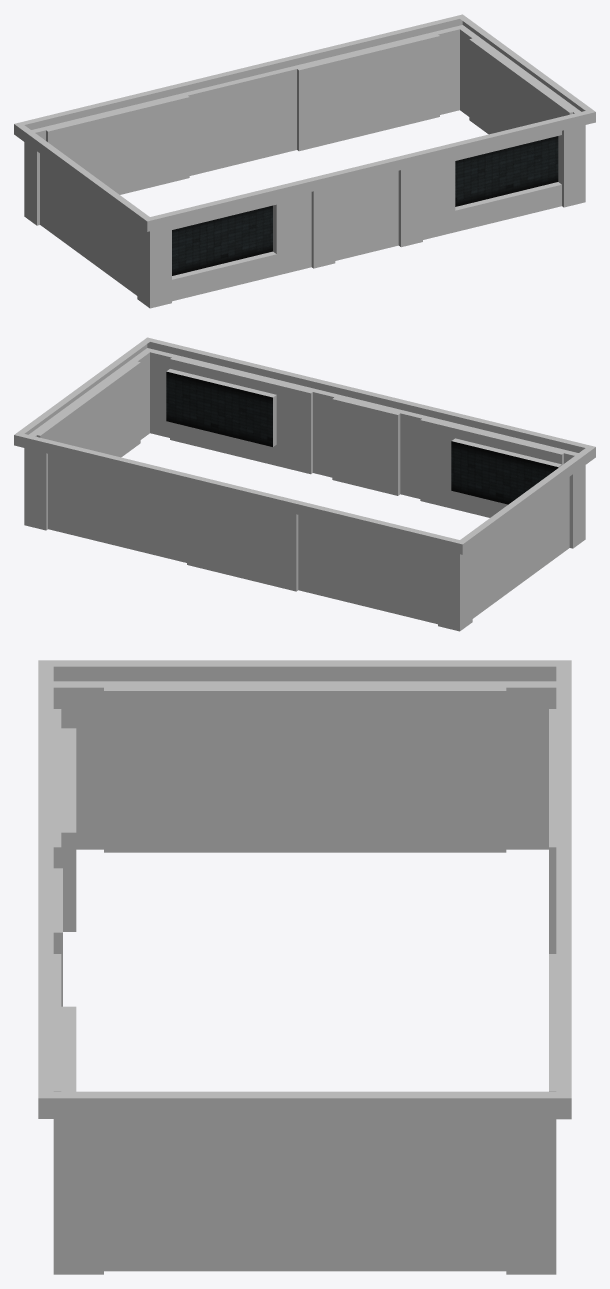
Rendered from BUild9_1.fbx.
3 views of the same model, one above another, from view 1: azimuth 30°, elevation 25°; view 2: azimuth 150°, elevation 25°; view 3: azimuth 270°, elevation 25° (orthographic). The views are drawn at different scales.
Parts seen in each view (by area): view 1: polySurface477; view 2: polySurface477; view 3: polySurface477.
Part boxes in pixels (bbox=[...]): polySurface477: bbox=[14, 14, 595, 308]; polySurface477: bbox=[14, 337, 595, 631]; polySurface477: bbox=[38, 660, 571, 1274].
Size of the model in its own units: 20.61 by 4.01 by 10.6.
